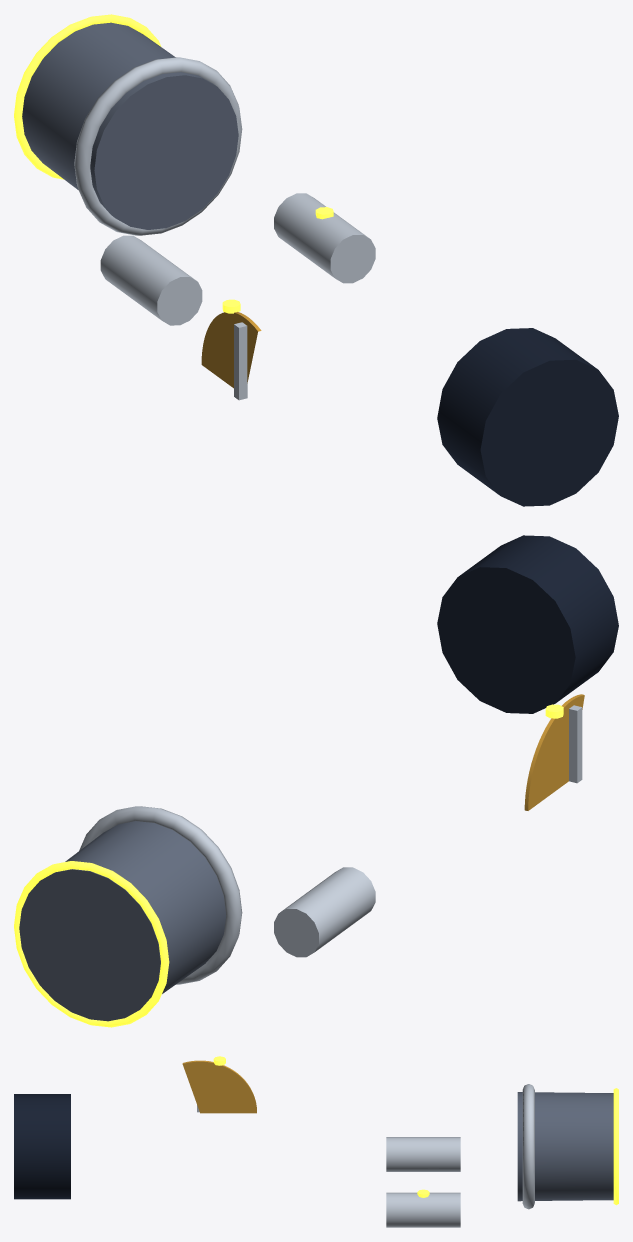
The model's file is tower_nova_range_s4.glb.
3 renders of one model, top to bottom at view 1: azimuth 30°, elevation 25°; view 2: azimuth 150°, elevation 25°; view 3: azimuth 270°, elevation 25°, orthographic. The views are drawn at different scales.
Parts seen in each view (by area): view 1: nova_tube_extension, nova_counterweight, nova_recup_ext_r, nova_tube_collar, nova_recup_ext_l, nova_quadrant_plate, nova_tube_ext_glow, nova_quadrant_pointer; view 2: nova_tube_extension, nova_counterweight, nova_recup_ext_r, nova_tube_collar, nova_tube_ext_glow, nova_quadrant_plate, nova_quadrant_pointer; view 3: nova_tube_extension, nova_counterweight, nova_quadrant_plate, nova_recup_ext_l, nova_recup_ext_r, nova_tube_collar, nova_tube_ext_glow.
Boxes of the visible parts, x1,y1,x2,y2 form: nova_tube_extension: (22, 22, 238, 229); nova_counterweight: (437, 328, 618, 506); nova_recup_ext_r: (100, 235, 202, 325); nova_tube_collar: (74, 57, 242, 235); nova_recup_ext_l: (274, 193, 375, 283); nova_quadrant_plate: (201, 312, 261, 388); nova_tube_ext_glow: (14, 14, 161, 179); nova_quadrant_pointer: (234, 322, 247, 400); nova_tube_extension: (19, 821, 226, 1021); nova_counterweight: (437, 535, 618, 713); nova_recup_ext_r: (274, 867, 375, 957); nova_tube_collar: (79, 806, 242, 984); nova_tube_ext_glow: (14, 861, 169, 1027); nova_quadrant_plate: (524, 694, 584, 810); nova_quadrant_pointer: (569, 705, 582, 783); nova_tube_extension: (517, 1092, 613, 1201); nova_counterweight: (14, 1094, 70, 1199); nova_quadrant_plate: (182, 1060, 256, 1113); nova_recup_ext_l: (386, 1192, 460, 1227); nova_recup_ext_r: (386, 1137, 460, 1171); nova_tube_collar: (522, 1084, 534, 1209); nova_tube_ext_glow: (613, 1088, 618, 1205).
Size of the model in its own units: 0.973 by 0.576 by 2.76.
